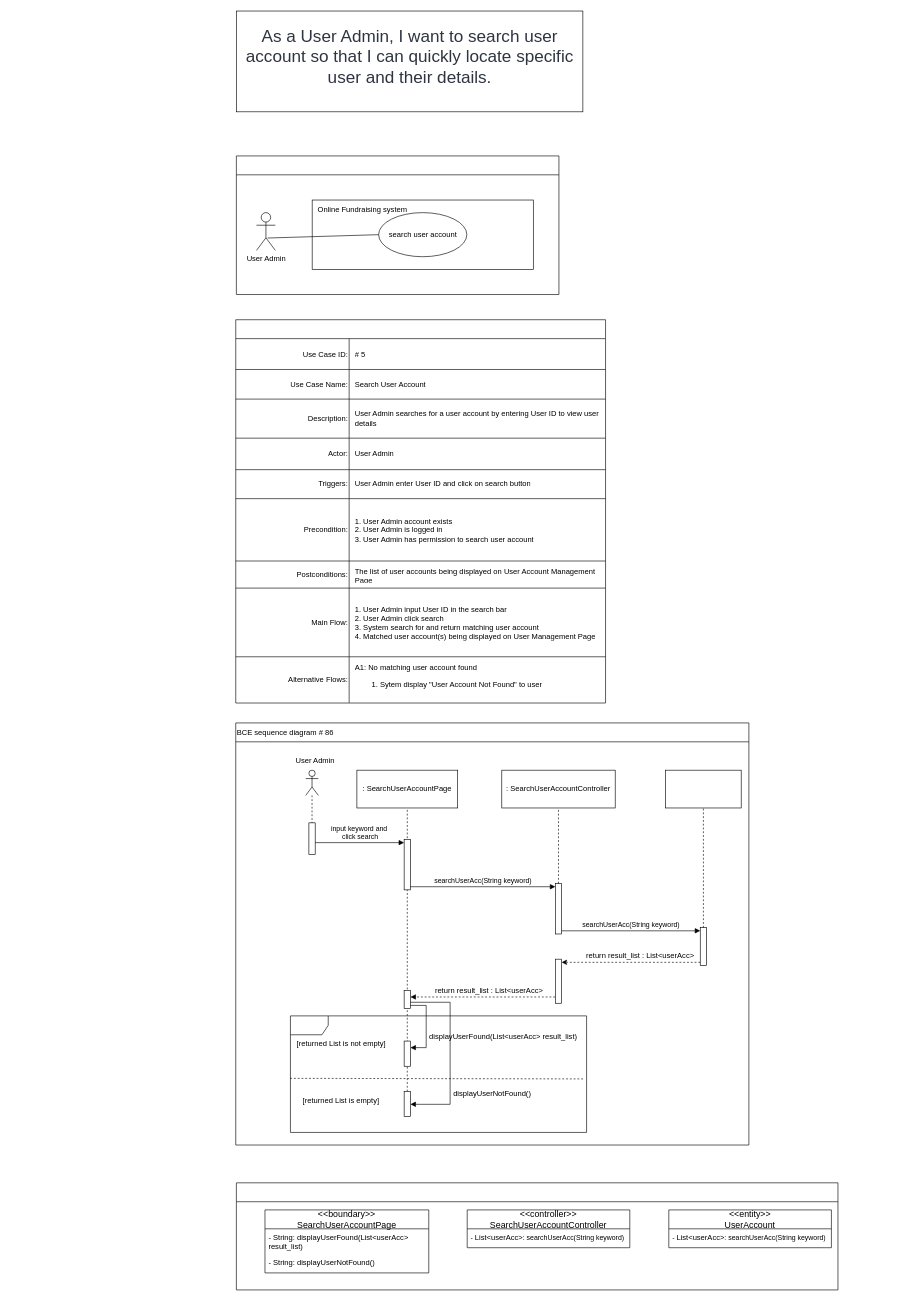
Image size: 902x1301. Some labels were removed from this diagram. Here are the shapes that lost their labels. From the top down, the box of each, then its label:
(236, 155, 559, 295): Use case diagram # 84
(235, 319, 606, 703): Use-Case Description #85
(665, 770, 741, 808): : UserAccount
(290, 1015, 587, 1132): alt
(236, 1182, 838, 1290): BCE class diagram # 87
